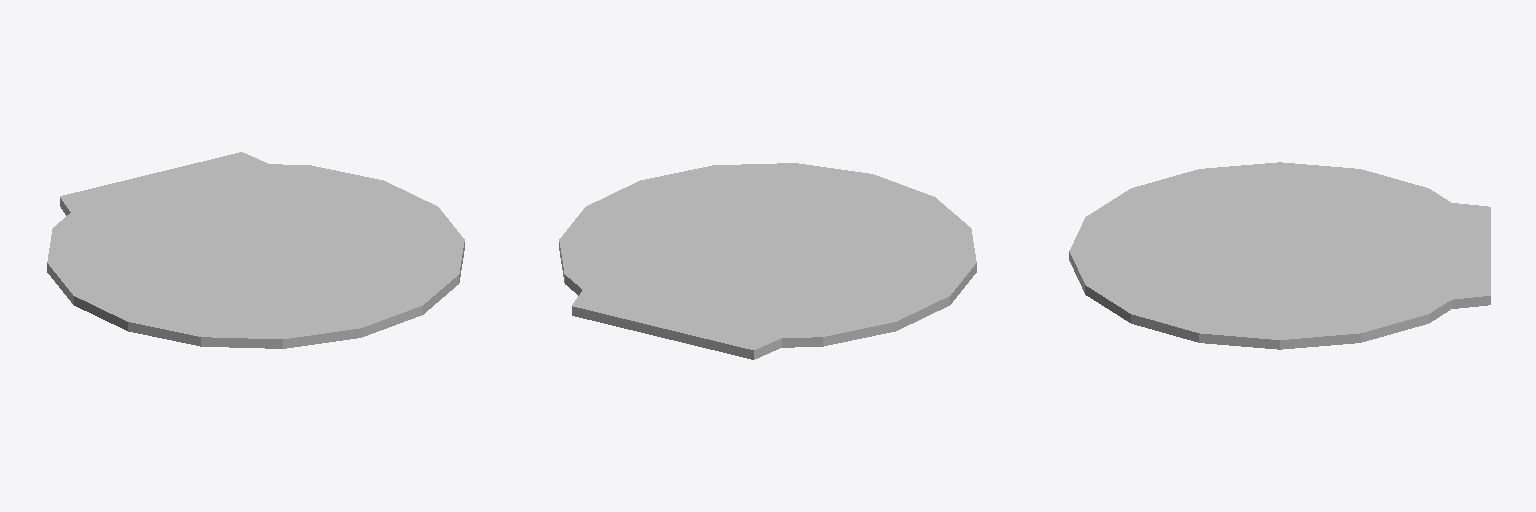
File: inter1000.obj
3 views of the same model, side by side, from view 1: azimuth 30°, elevation 25°; view 2: azimuth 150°, elevation 25°; view 3: azimuth 270°, elevation 25° (orthographic).
Visible parts, largest first — view 1: Circle_Circle.004; view 2: Circle_Circle.004; view 3: Circle_Circle.004.
Part boxes in pixels (x1,y1,x2,y2): Circle_Circle.004: (47,152,464,348); Circle_Circle.004: (559,163,976,359); Circle_Circle.004: (1069,162,1490,349).
Size of the model in its own units: 4 by 0.1 by 4.